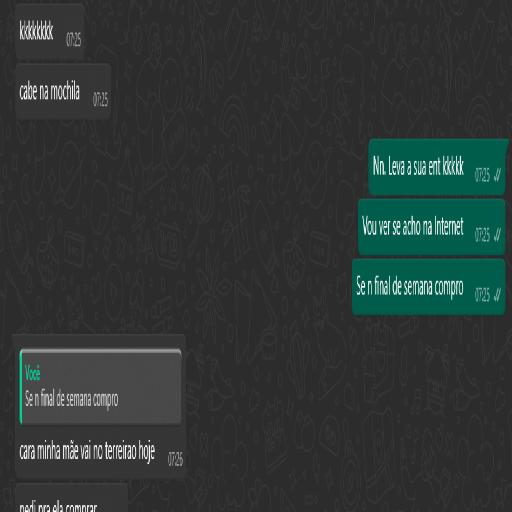mensagem-enviada: (352, 259, 504, 313)
